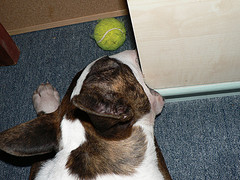tennis ball: (93, 17, 127, 51)
